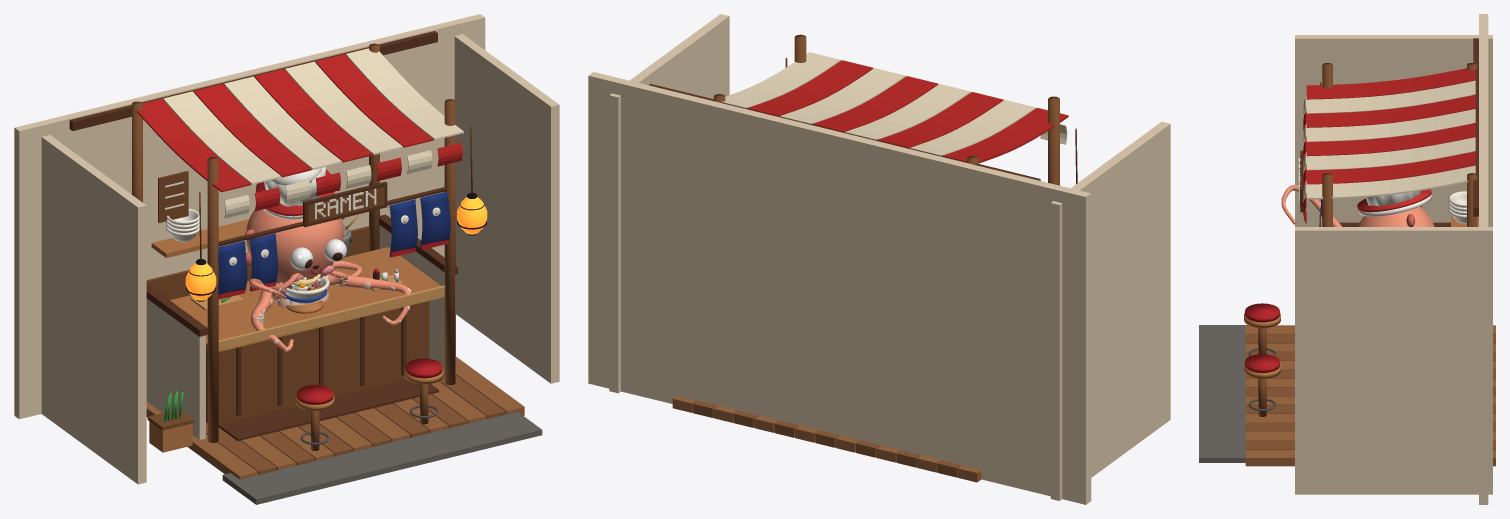
File: octopus-chef-ramen-booth.glb
The picture shows the model from 3 angles, left to right: view 1: azimuth 30°, elevation 25°; view 2: azimuth 150°, elevation 25°; view 3: azimuth 270°, elevation 25°; orthographic projection. The views are drawn at different scales.
Parts seen in each view (by area): view 1: WingL, WingR, BackWall, CounterBody, FloorPlanks, Threshold, CounterTop, SideWall_L, ToeKick, Awning_4, Awning_5, Awning_3 (+33 smaller); view 2: BackWall, WingL, WingR, FloorPlanks, Awning_2, Awning_3, Awning_4, Awning_5, Awning_6, Awning_1, Awning_7, Awning_0 (+2 smaller); view 3: WingR, WingL, Threshold, FloorPlanks, BackWall, Awning_1, Awning_2, Awning_3, Awning_5, Awning_4, Awning_7, Awning_0 (+11 smaller).
Part boxes in pixels (box(x1,y1,x2,y2)): WingL: box(41, 135, 146, 484); WingR: box(454, 34, 559, 383); BackWall: box(14, 14, 485, 419); CounterBody: box(206, 301, 429, 424); FloorPlanks: box(146, 356, 524, 479); Threshold: box(222, 412, 542, 504); CounterTop: box(170, 247, 444, 351); SideWall_L: box(146, 298, 205, 439); ToeKick: box(218, 379, 438, 440); Awning_4: box(254, 69, 372, 162); Awning_5: box(285, 61, 402, 154); Awning_3: box(224, 76, 342, 169); BackWall: box(588, 72, 1091, 504); WingL: box(1050, 121, 1170, 500); WingR: box(609, 14, 729, 393); FloorPlanks: box(672, 396, 981, 482); Awning_2: box(877, 92, 1003, 147); Awning_3: box(845, 84, 970, 139); Awning_4: box(812, 76, 938, 132); Awning_5: box(780, 68, 905, 123); Awning_6: box(747, 60, 873, 116); Awning_1: box(910, 100, 1035, 155); Awning_7: box(721, 52, 840, 108); Awning_0: box(942, 107, 1068, 163); WingR: box(1295, 227, 1492, 494); WingL: box(1295, 35, 1492, 226); Threshold: box(1199, 325, 1247, 462); FloorPlanks: box(1245, 325, 1495, 466); BackWall: box(1479, 14, 1488, 504); Awning_1: box(1306, 80, 1475, 113); Awning_2: box(1306, 95, 1475, 127); Awning_3: box(1306, 109, 1475, 141); Awning_5: box(1306, 137, 1475, 170); Awning_4: box(1306, 123, 1475, 156); Awning_7: box(1306, 165, 1475, 199); Awning_0: box(1306, 68, 1475, 99).
Bounding box in the file's own units: 4.4 × 2.63 × 2.55.
